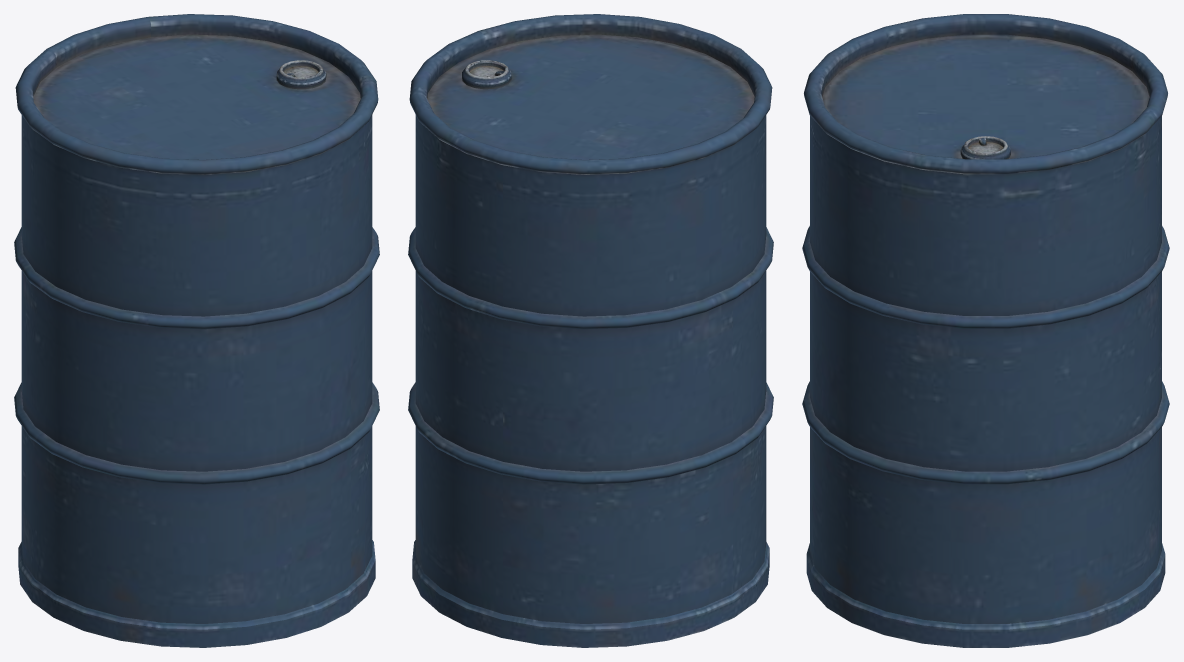
The model's file is barrel_03.gltf.
The picture shows the model from 3 angles, left to right: view 1: azimuth 30°, elevation 25°; view 2: azimuth 150°, elevation 25°; view 3: azimuth 270°, elevation 25°; orthographic projection.
Visible parts, largest first — view 1: barrel_03; view 2: barrel_03; view 3: barrel_03.
Part boxes in pixels (box(x1,y1,x2,y2)): barrel_03: box(14, 14, 379, 647); barrel_03: box(408, 14, 773, 647); barrel_03: box(802, 14, 1169, 647).
Size of the model in its own units: 0.6339 by 0.9305 by 0.6386.
Materials: 1 (1 with a texture image).
